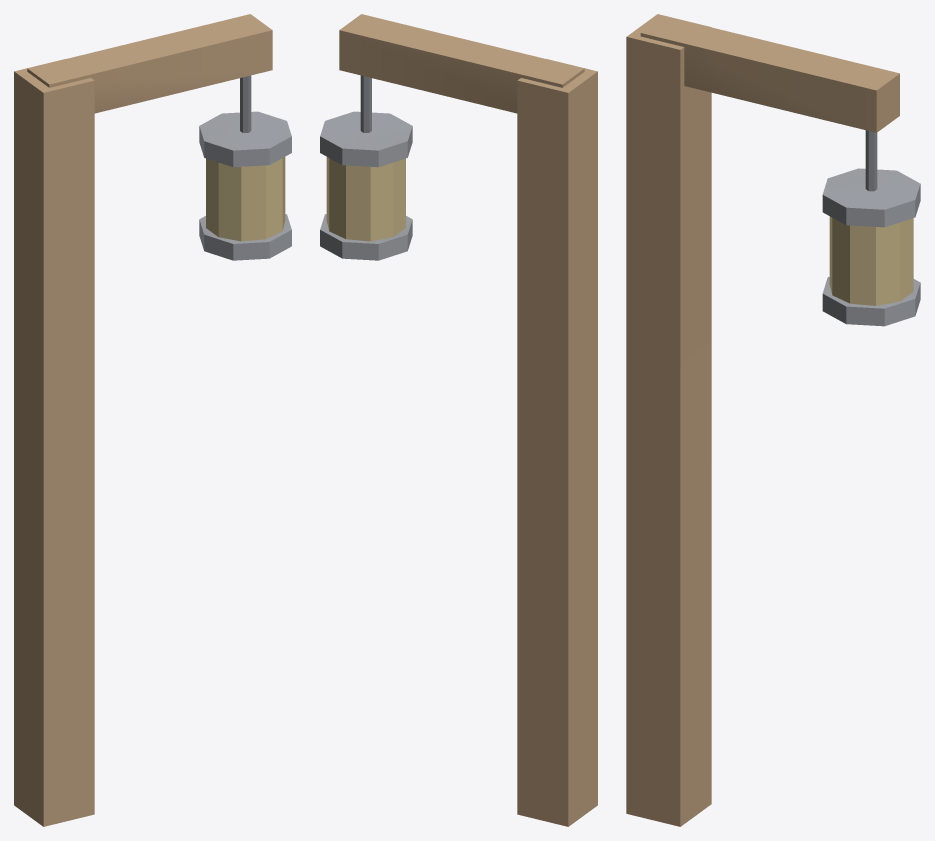
The model's file is VMineLamp.fbx.
3 views of the same model, side by side, from view 1: azimuth 30°, elevation 25°; view 2: azimuth 150°, elevation 25°; view 3: azimuth 330°, elevation 25° (orthographic). The views are drawn at different scales.
Parts seen in each view (by area): view 1: VMineLamp; view 2: VMineLamp; view 3: VMineLamp.
Boxes of the visible parts, x1,y1,x2,y2 form: VMineLamp: (14,14,291,826); VMineLamp: (320,14,597,826); VMineLamp: (626,14,920,826).
Size of the model in its own units: 0.81 by 2.21 by 0.26.
